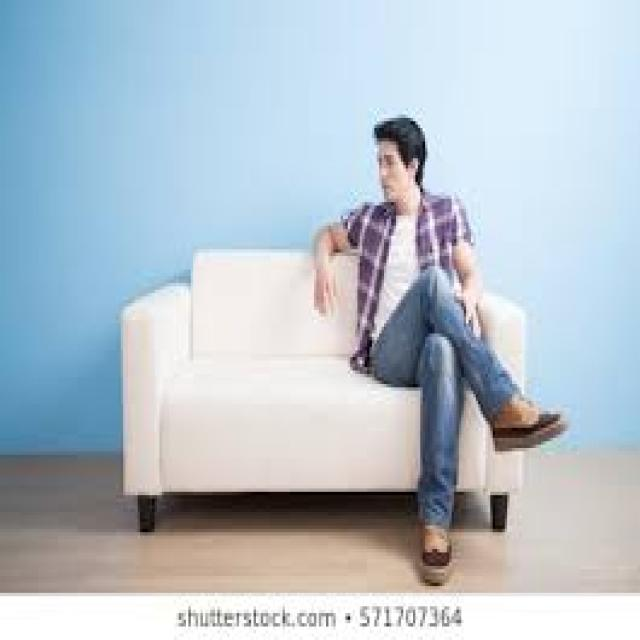nonfall: (322, 95, 576, 580)
